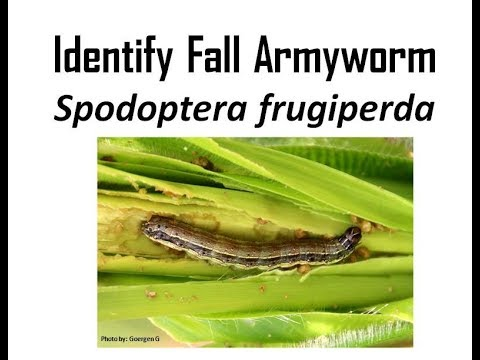Armyworm: (130, 212, 374, 282)
